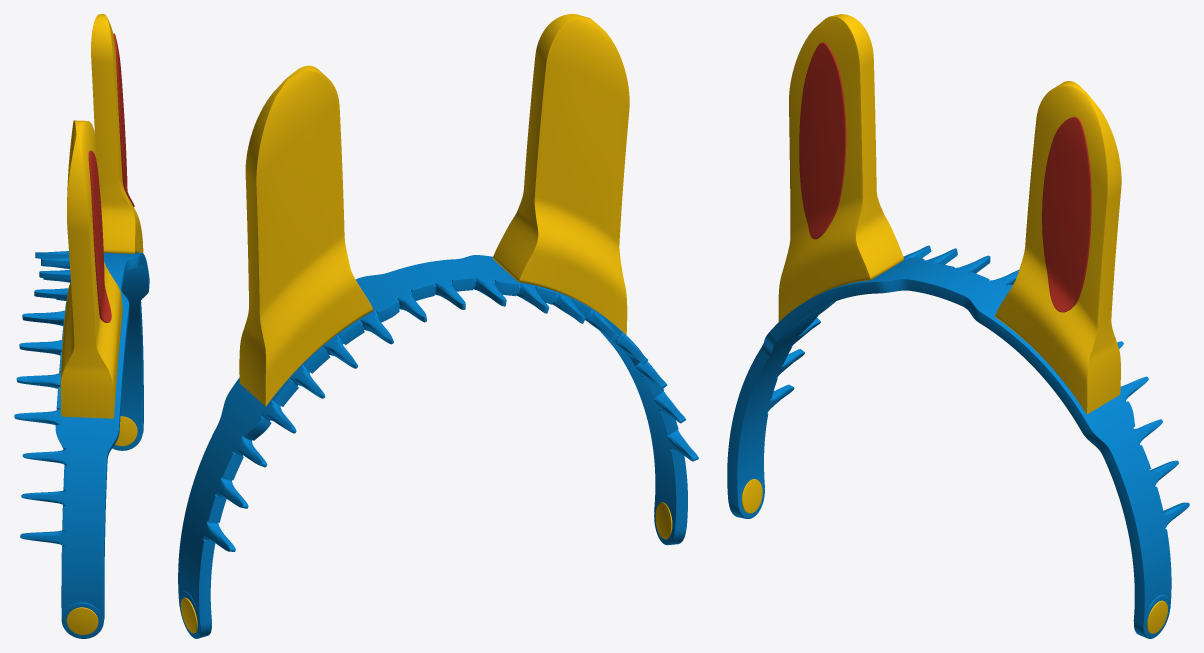
File: bunny-sweep.glb
3 renders of one model, left to right at view 1: azimuth 30°, elevation 25°; view 2: azimuth 150°, elevation 25°; view 3: azimuth 270°, elevation 25°, orthographic. The views are drawn at different scales.
Parts seen in each view (by area): view 1: bunny-sweep-part-001, bunny-sweep-part-002, bunny-sweep-part-003, bunny-sweep-part-004, bunny-sweep-part-005; view 2: bunny-sweep-part-003, bunny-sweep-part-002, bunny-sweep-part-001; view 3: bunny-sweep-part-001, bunny-sweep-part-003, bunny-sweep-part-002, bunny-sweep-part-005, bunny-sweep-part-004.
Boxes of the visible parts, x1=… form: bunny-sweep-part-001: x1=14, y1=251, x2=149, y2=638; bunny-sweep-part-002: x1=60, y1=120, x2=122, y2=418; bunny-sweep-part-003: x1=91, y1=14, x2=143, y2=253; bunny-sweep-part-004: x1=88, y1=150, x2=111, y2=322; bunny-sweep-part-005: x1=113, y1=33, x2=134, y2=206; bunny-sweep-part-003: x1=239, y1=65, x2=373, y2=406; bunny-sweep-part-002: x1=492, y1=14, x2=629, y2=334; bunny-sweep-part-001: x1=178, y1=255, x2=698, y2=638; bunny-sweep-part-001: x1=727, y1=245, x2=1189, y2=638; bunny-sweep-part-003: x1=994, y1=81, x2=1121, y2=414; bunny-sweep-part-002: x1=778, y1=14, x2=904, y2=321; bunny-sweep-part-005: x1=1042, y1=116, x2=1091, y2=312; bunny-sweep-part-004: x1=799, y1=42, x2=846, y2=239.
Bounding box in the file's own units: 1.89 × 3 × 2.41.
